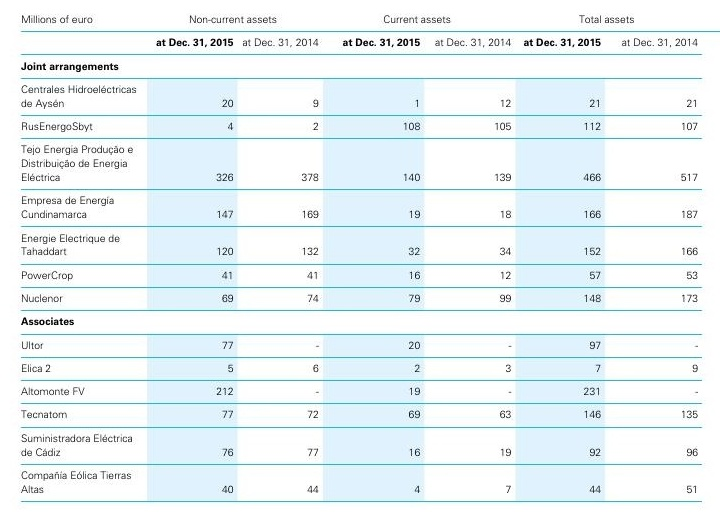table: (0, 0, 720, 518)
